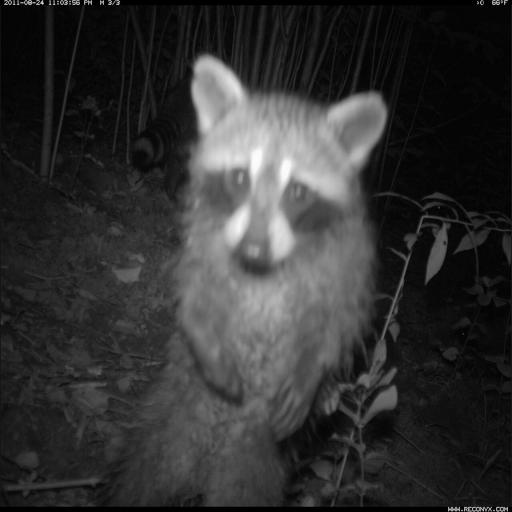raccoon: (115, 56, 385, 505), (132, 79, 197, 198)
